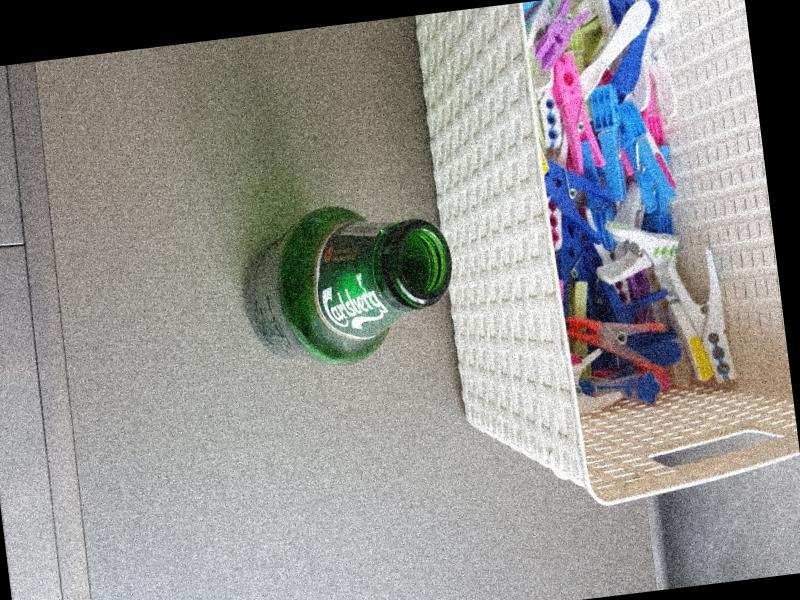Beer: (233, 193, 461, 378)
